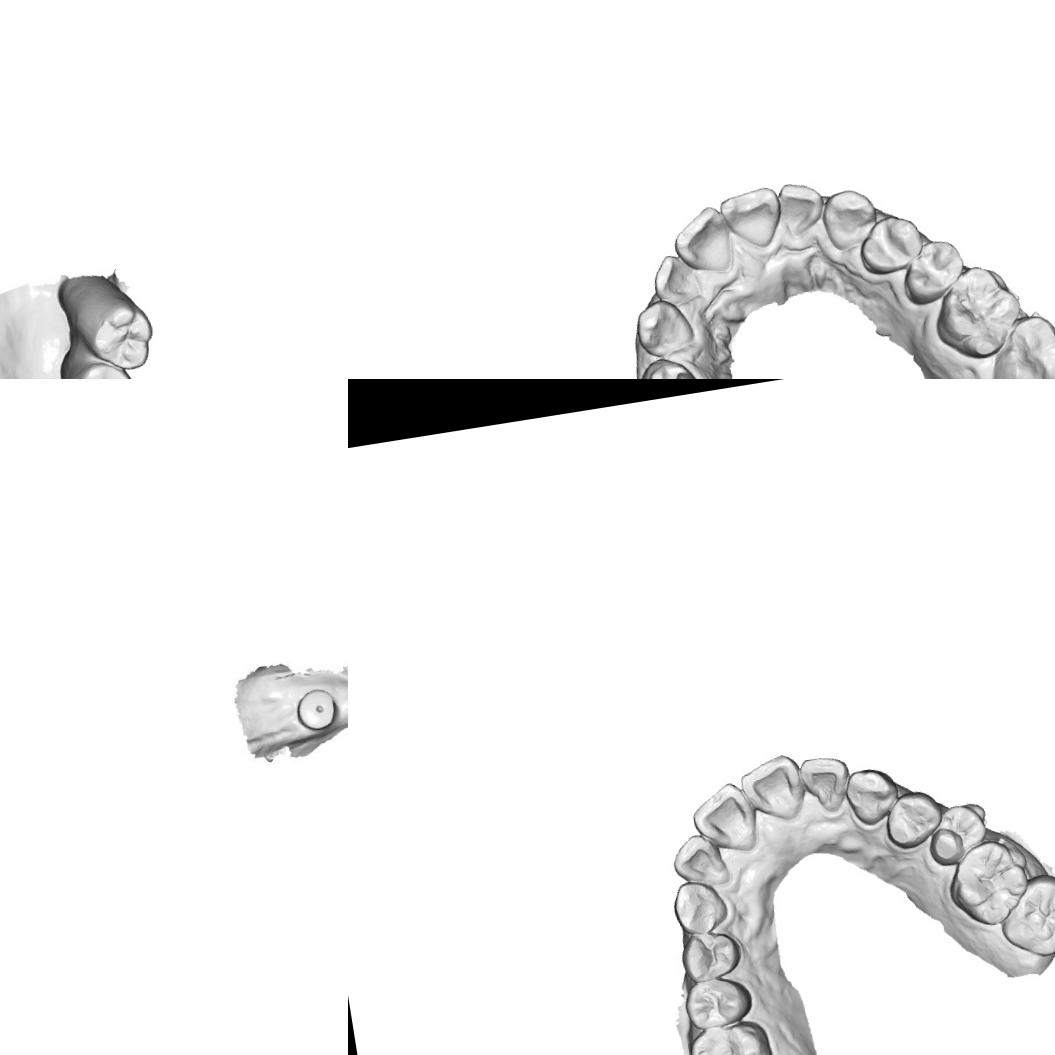canine: (816, 183, 882, 256), (630, 294, 698, 362), (840, 763, 904, 829), (668, 876, 733, 940)
implant: (294, 684, 342, 735)
incisor: (685, 777, 761, 860), (735, 751, 809, 829), (664, 202, 737, 277), (714, 181, 785, 256), (666, 828, 733, 894), (796, 751, 856, 816), (771, 178, 827, 238), (646, 250, 704, 306)
molar: (52, 265, 159, 379), (927, 260, 1026, 365), (942, 835, 1036, 933), (993, 865, 1055, 964), (982, 307, 1055, 379), (55, 336, 142, 379), (683, 1018, 780, 1055)
premolar: (894, 233, 972, 306), (854, 210, 928, 278), (923, 800, 992, 868), (680, 973, 757, 1033), (880, 787, 946, 854), (676, 926, 746, 986), (633, 352, 708, 379)
